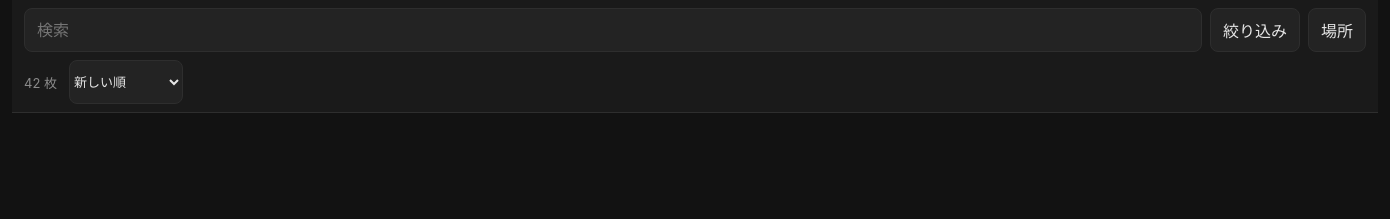
Test case: FilterBar › フォーカスで履歴が開き、入力で絞り込まれる
Focus the search field with placeholder "検索" at (613, 30), box x1=24 y1=8 x2=1202 y2=52
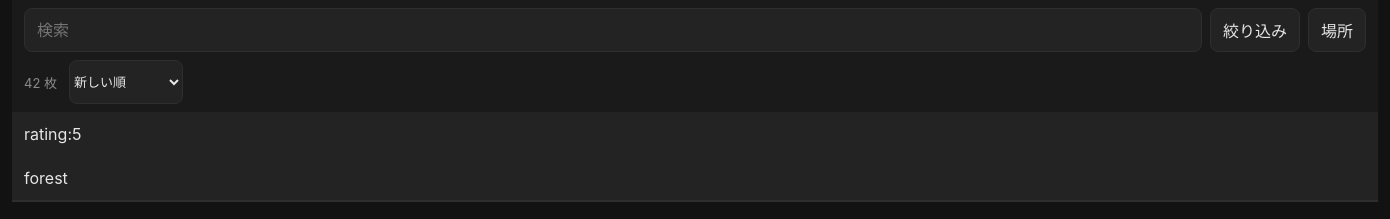
Now the button "rating:5" is shown, box x1=12 y1=112 x2=1378 y2=156
Now the button "forest" is shown, box x1=12 y1=156 x2=1378 y2=200
Type "for" into the search field with placeholder "検索" at (613, 30), box x1=24 y1=8 x2=1202 y2=52
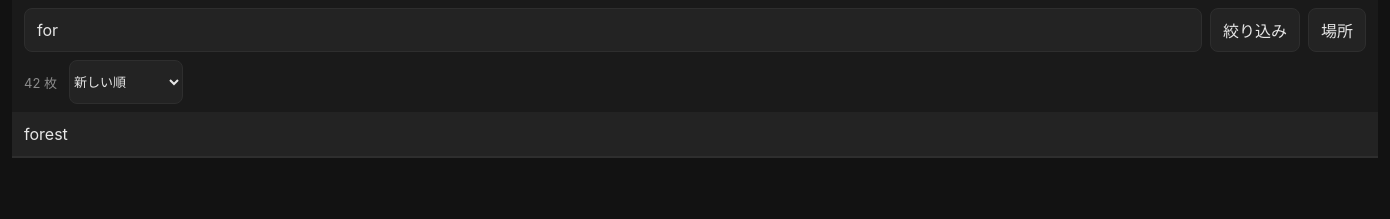
Now the button "forest" is shown, box x1=12 y1=112 x2=1378 y2=156
Now the button "rating:5" is gone
